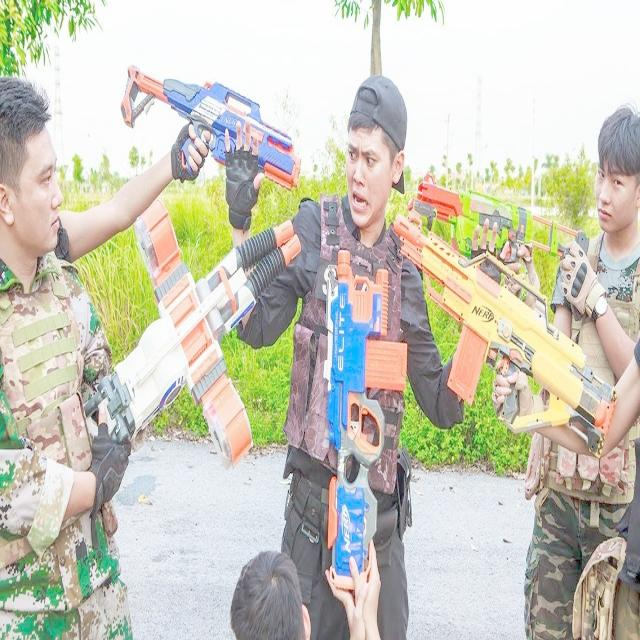Nerf gun: (55, 198, 302, 472), (390, 196, 621, 455), (314, 241, 414, 573), (114, 53, 306, 201), (410, 166, 592, 275)
